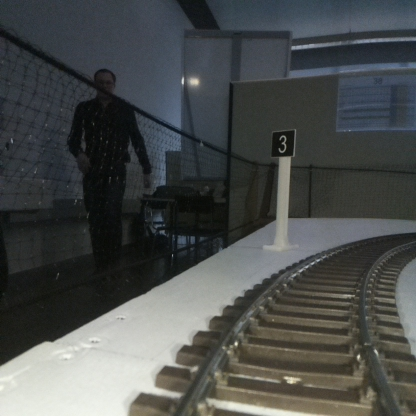black-info-3: (272, 131, 294, 250)
